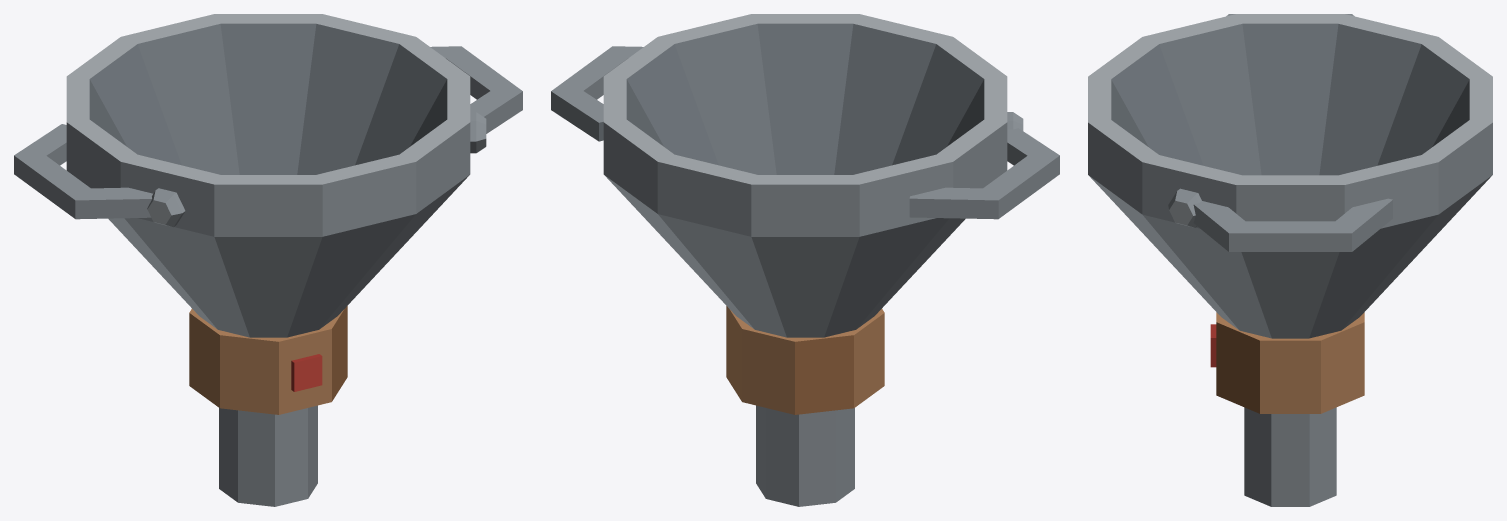
File: FMS_Workshop_TOL_07.fbx
The picture shows the model from 3 angles, left to right: view 1: azimuth 30°, elevation 25°; view 2: azimuth 150°, elevation 25°; view 3: azimuth 270°, elevation 25°; orthographic projection.
Parts seen in each view (by area): view 1: FMS_Workshop_TOL_07_Body; view 2: FMS_Workshop_TOL_07_Body; view 3: FMS_Workshop_TOL_07_Body.
Boxes of the visible parts, bbox=[...] form: FMS_Workshop_TOL_07_Body: bbox=[14, 14, 522, 506]; FMS_Workshop_TOL_07_Body: bbox=[551, 14, 1059, 506]; FMS_Workshop_TOL_07_Body: bbox=[1088, 14, 1492, 506].
Size of the model in its own units: 0.224 by 0.185 by 0.175.
